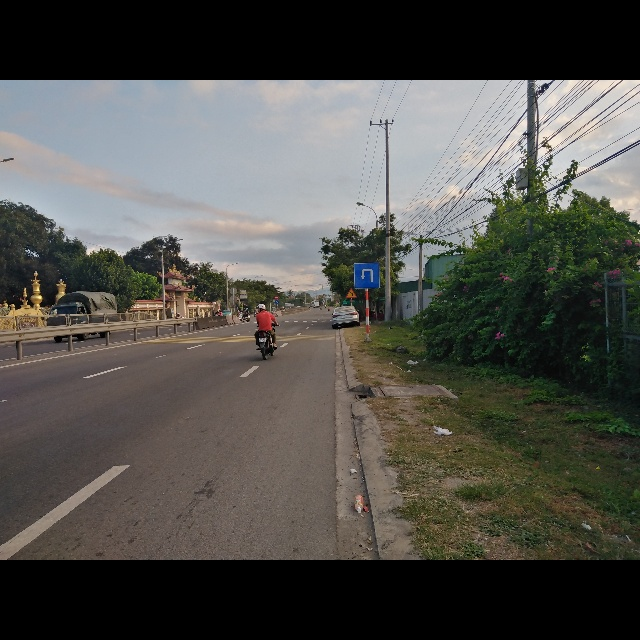Khu vực quay đầu xe: (353, 261, 380, 290)
